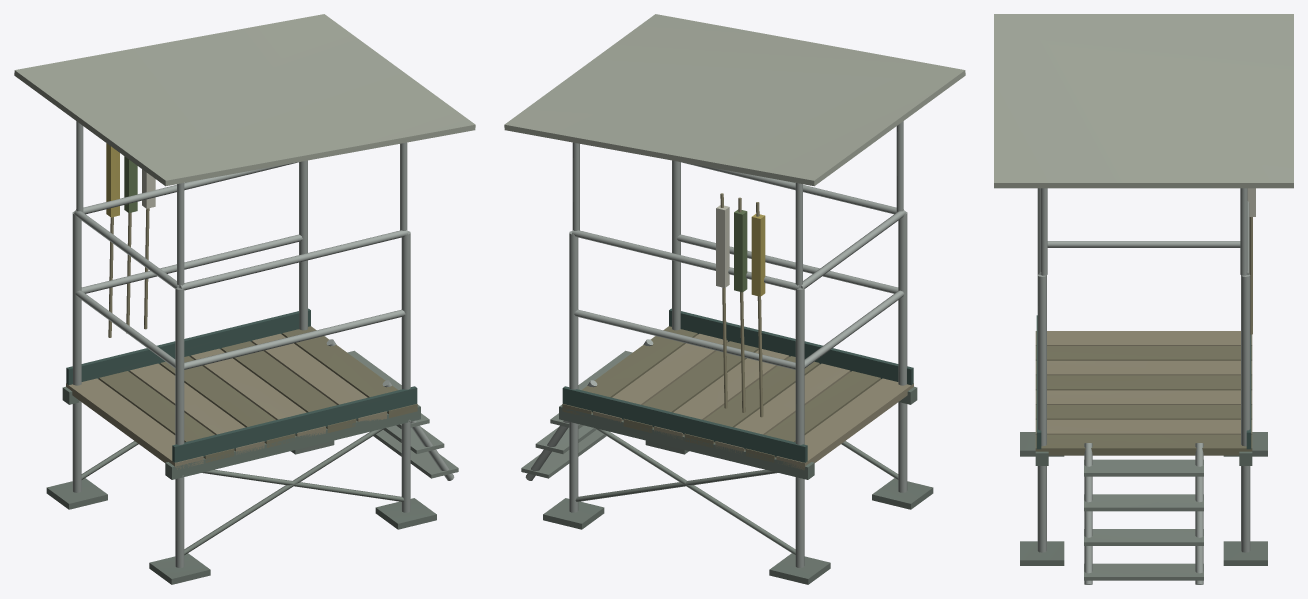
File: marshal-post-course.glb
3 renders of one model, left to right at view 1: azimuth 30°, elevation 25°; view 2: azimuth 150°, elevation 25°; view 3: azimuth 270°, elevation 25°, orthographic.
Parts seen in each view (by area): view 1: Lightweight sloped shade roof.001, Safety toe-board.003, Safety toe-board.002, Individual non-slip platform plank.008, Platform rim beam.003, Individual non-slip platform plank.013, Individual non-slip platform plank.009, Individual non-slip platform plank.012, Individual non-slip platform plank.010, Individual non-slip platform plank.014, Individual non-slip platform plank.015, Individual non-slip platform plank.011 (+22 smaller); view 2: Lightweight sloped shade roof.001, Safety toe-board.002, Safety toe-board.003, Individual non-slip platform plank.008, Platform rim beam.002, Individual non-slip platform plank.009, Individual non-slip platform plank.013, Individual non-slip platform plank.014, Individual non-slip platform plank.010, Individual non-slip platform plank.015, Braced platform support.005, Braced platform support.004 (+23 smaller); view 3: Lightweight sloped shade roof.001, Individual non-slip platform plank.015, Individual non-slip platform plank.011, Individual non-slip platform plank.014, Individual non-slip platform plank.010, Individual non-slip platform plank.009, Individual non-slip platform plank.012, Individual non-slip platform plank.013, Individual non-slip platform plank.008, Braced platform support.006, Braced platform support.007, Open tread access step.007 (+13 smaller).
Part boxes in pixels (x1,y1,x2,y2): Lightweight sloped shade roof.001: (14,14,475,186); Safety toe-board.003: (172,386,417,462); Safety toe-board.002: (66,308,310,385); Individual non-slip platform plank.008: (66,378,203,469); Platform rim beam.003: (165,404,420,479); Individual non-slip platform plank.013: (221,341,356,432); Individual non-slip platform plank.009: (98,371,234,462); Individual non-slip platform plank.012: (190,348,325,437); Individual non-slip platform plank.010: (129,363,264,454); Individual non-slip platform plank.014: (251,333,386,421); Individual non-slip platform plank.015: (282,326,417,418); Individual non-slip platform plank.011: (160,356,295,447); Lightweight sloped shade roof.001: (504,14,965,186); Safety toe-board.002: (562,386,807,462); Safety toe-board.003: (669,308,913,385); Individual non-slip platform plank.008: (776,378,913,470); Platform rim beam.002: (559,404,814,479); Individual non-slip platform plank.009: (745,371,881,462); Individual non-slip platform plank.013: (623,341,758,432); Individual non-slip platform plank.014: (593,333,728,422); Individual non-slip platform plank.010: (715,363,850,453); Individual non-slip platform plank.015: (562,326,697,417); Braced platform support.005: (898,211,907,492); Braced platform support.004: (795,288,804,567); Lightweight sloped shade roof.001: (994,14,1293,188); Individual non-slip platform plank.015: (1035,434,1252,455); Individual non-slip platform plank.011: (1035,375,1252,390); Individual non-slip platform plank.014: (1035,419,1252,434); Individual non-slip platform plank.010: (1035,360,1252,375); Individual non-slip platform plank.009: (1035,346,1252,360); Individual non-slip platform plank.012: (1035,390,1252,404); Individual non-slip platform plank.013: (1035,405,1252,419); Individual non-slip platform plank.008: (1035,331,1252,345); Braced platform support.006: (1241,274,1250,552); Braced platform support.007: (1037,274,1046,552); Open tread access step.007: (1084,459,1203,476).
Size of the model in its own units: 2.09 by 2.47 by 1.62.
